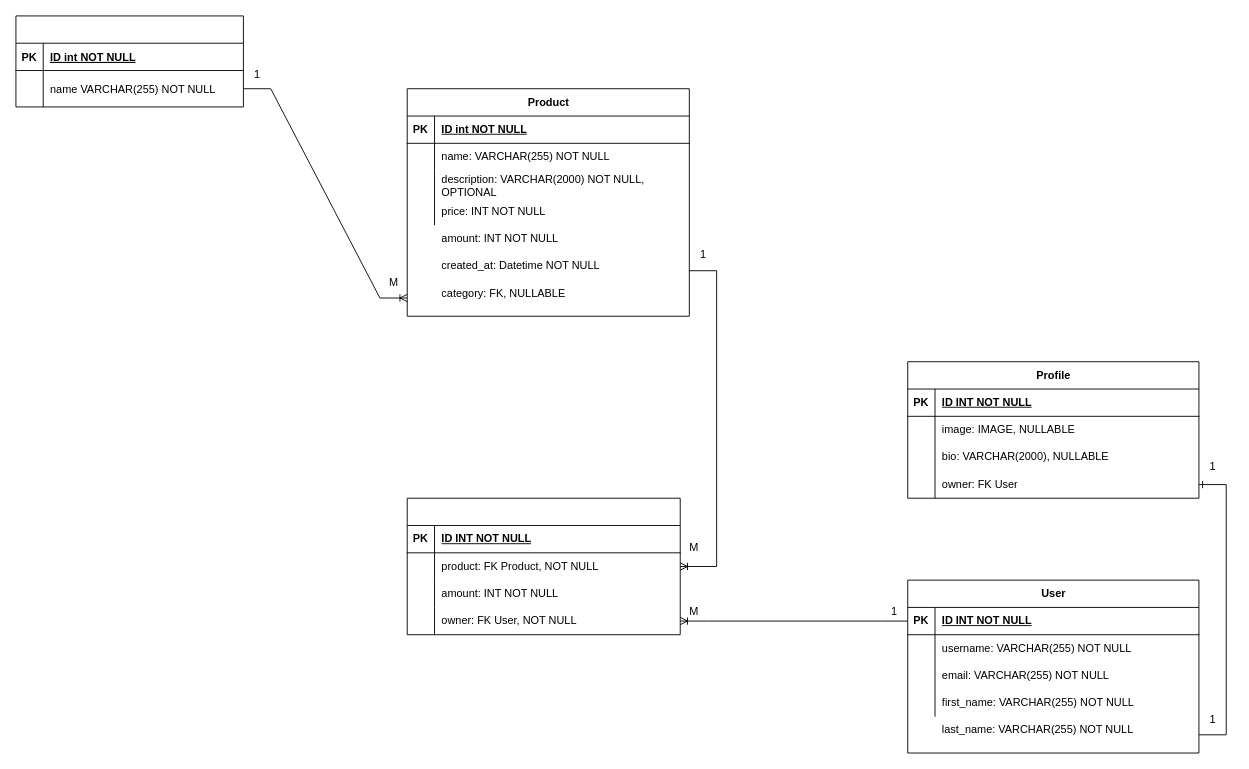
Some shapes in this 1249 by 769 pixel diagram are drawn without their labels. Each missing label, with the box of its shape:
BasketItem: (406, 497, 680, 635)
Category: (15, 15, 243, 107)
